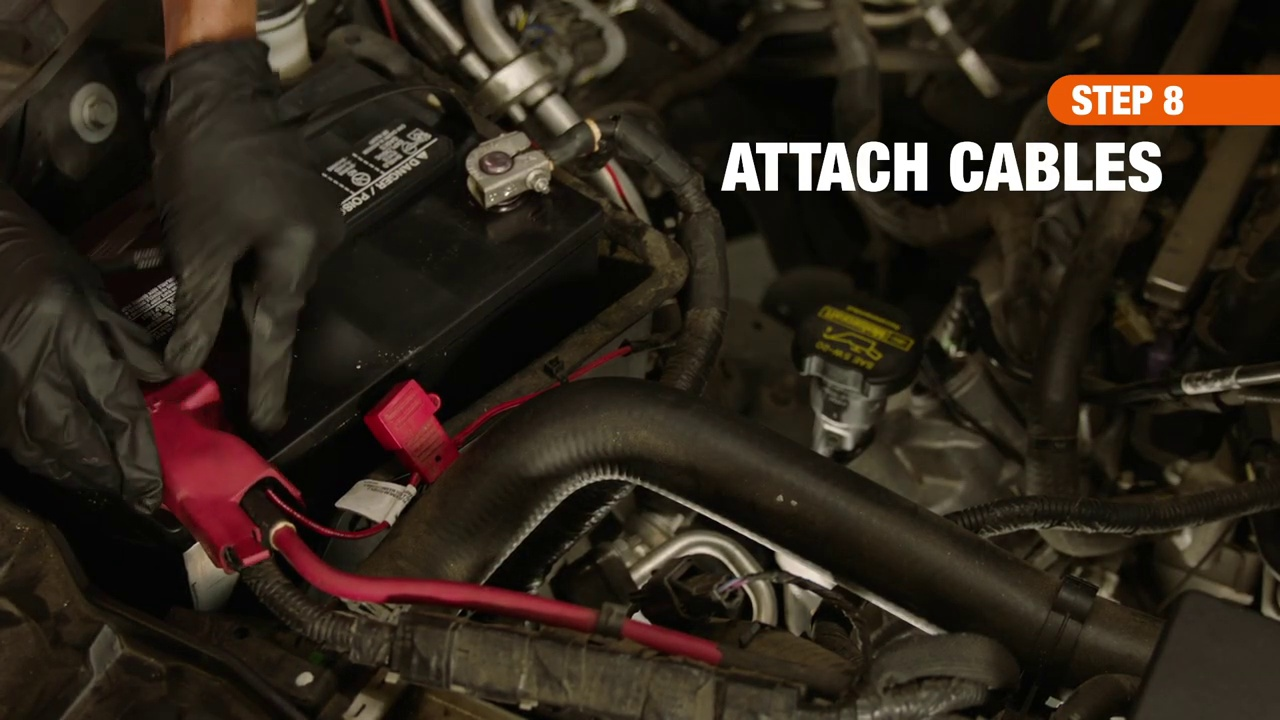battery: (24, 43, 609, 551)
neg_connected: (443, 94, 607, 233)
pos_touched: (40, 277, 305, 538)
